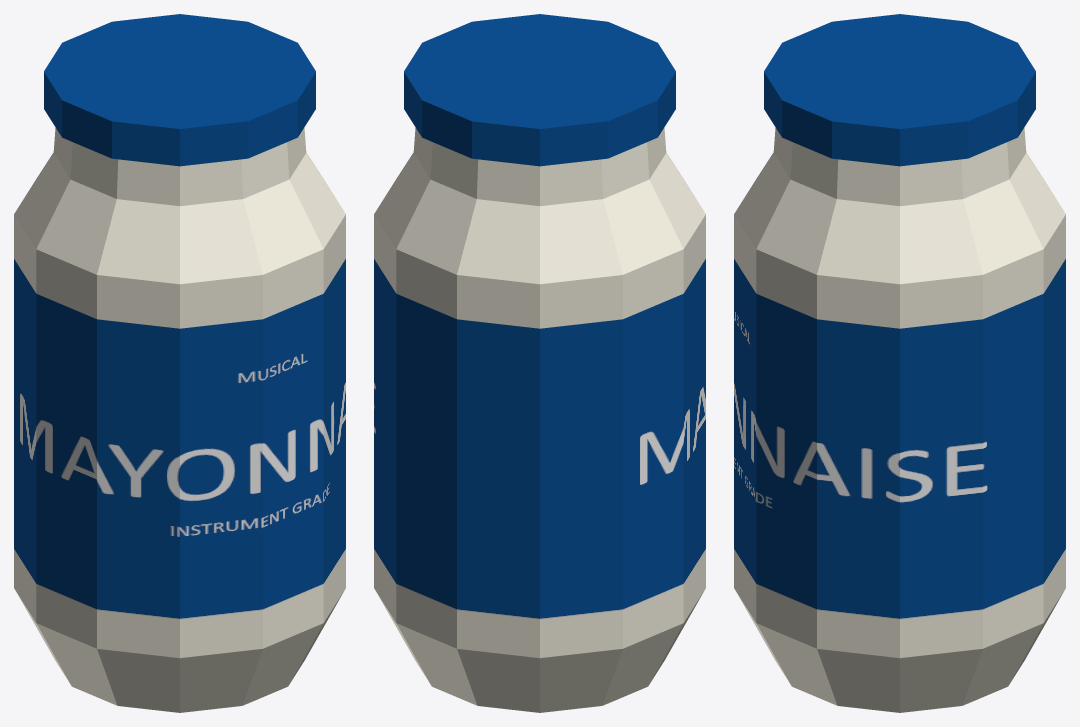
Rendered from Mayonnaise.fbx.
The picture shows the model from 3 angles, left to right: view 1: azimuth 30°, elevation 25°; view 2: azimuth 150°, elevation 25°; view 3: azimuth 270°, elevation 25°; orthographic projection.
Visible parts, largest first — view 1: Cylinder; view 2: Cylinder; view 3: Cylinder.
Boxes of the visible parts, left/top/right/bottom form: Cylinder: left=14, top=14, right=345, bottom=712; Cylinder: left=374, top=14, right=705, bottom=712; Cylinder: left=734, top=14, right=1065, bottom=712.
Bounding box in the file's own units: 8.1 × 15.85 × 8.1.
